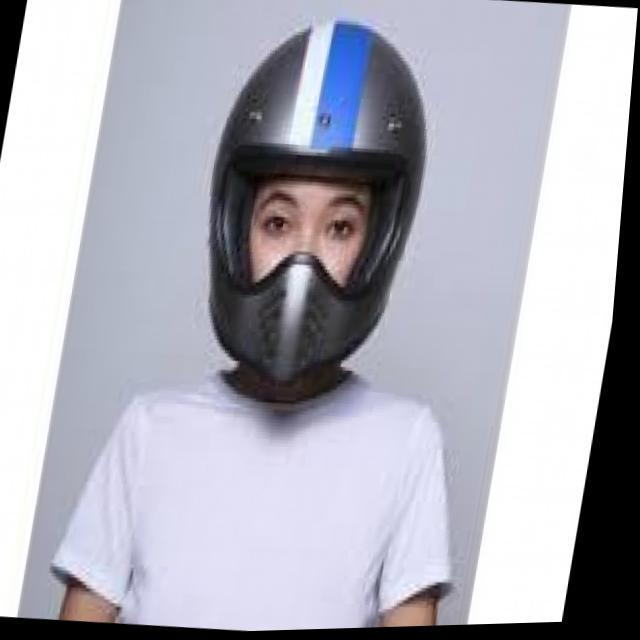Helmet: (200, 16, 432, 386)
